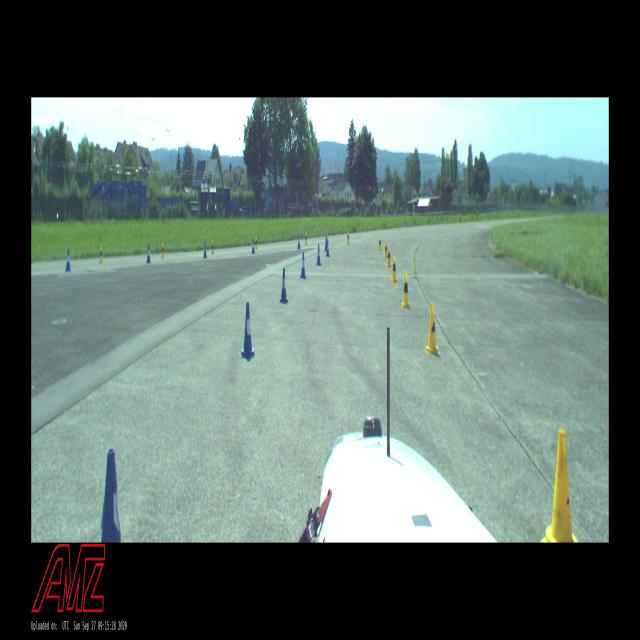blue_cone: (100, 447, 121, 542), (240, 302, 256, 357), (280, 267, 288, 303), (300, 252, 306, 278), (66, 248, 72, 272), (316, 245, 321, 265), (146, 246, 151, 263), (326, 240, 330, 256), (252, 238, 256, 254), (203, 242, 207, 256), (324, 236, 327, 251), (297, 235, 300, 249)
yellow_cone: (542, 428, 583, 542), (425, 302, 439, 357), (401, 272, 411, 308), (390, 255, 398, 282), (387, 246, 391, 266), (99, 246, 103, 263), (161, 242, 165, 258), (384, 241, 387, 257), (378, 236, 381, 250), (211, 241, 214, 254), (346, 231, 349, 244), (255, 237, 258, 249), (305, 232, 307, 245)
